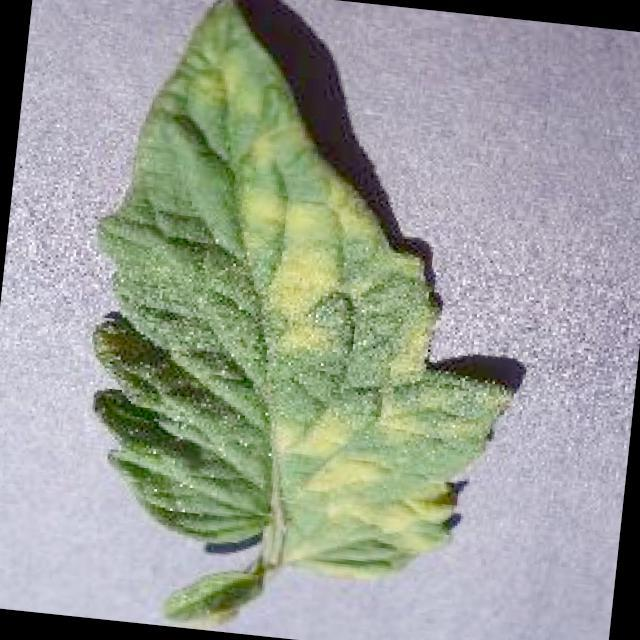Tomato mold leaf: (65, 0, 555, 593)
